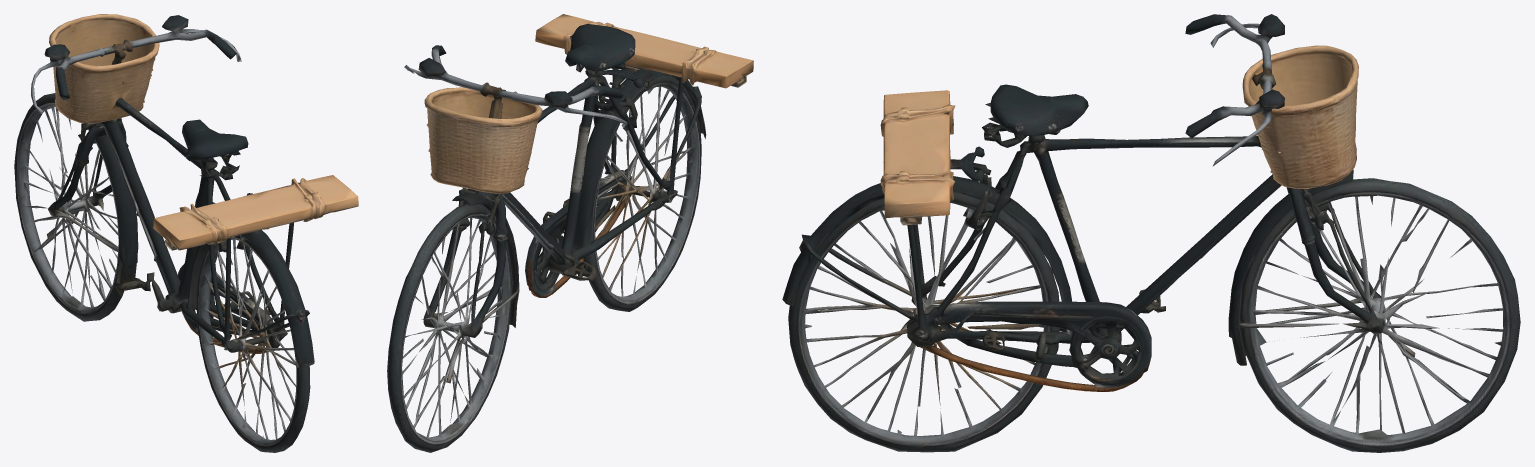
File: bicycle.glb
3 views of the same model, side by side, from view 1: azimuth 30°, elevation 25°; view 2: azimuth 150°, elevation 25°; view 3: azimuth 270°, elevation 25° (orthographic). The views are drawn at different scales.
Parts seen in each view (by area): view 1: tripo_node_6abeb937-2a3b-4239-80bd-a3b3a9d30887; view 2: tripo_node_6abeb937-2a3b-4239-80bd-a3b3a9d30887; view 3: tripo_node_6abeb937-2a3b-4239-80bd-a3b3a9d30887.
Part boxes in pixels (box(x1,y1,x2,y2)): tripo_node_6abeb937-2a3b-4239-80bd-a3b3a9d30887: box(14, 14, 358, 452); tripo_node_6abeb937-2a3b-4239-80bd-a3b3a9d30887: box(387, 14, 753, 452); tripo_node_6abeb937-2a3b-4239-80bd-a3b3a9d30887: box(782, 14, 1520, 452).
Bounding box in the file's own units: 0.7525 × 1.1 × 1.85.
1 material, 1 textured.
